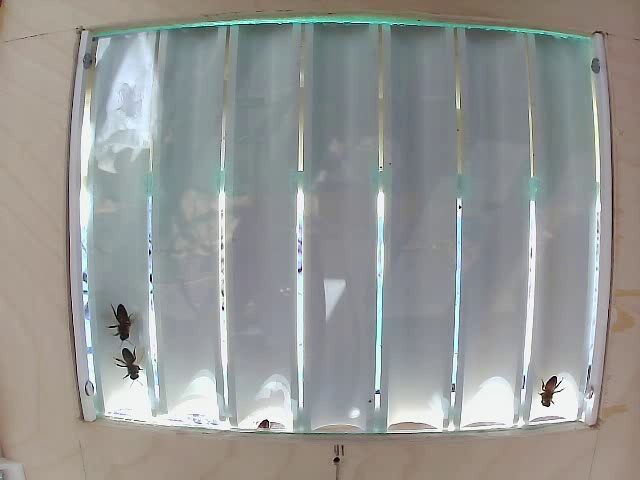bee: (111, 347, 146, 398), (99, 294, 138, 334)
